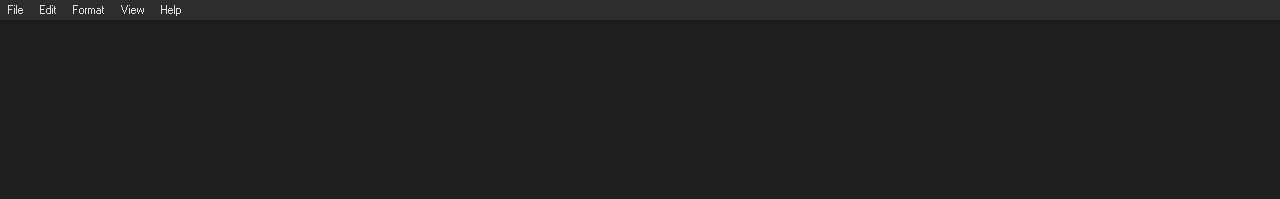
Scenario: MenuBar › should open a menu on click
Click the menu item "File". click: x=16, y=10
box: top-left (8, 4), bottom-right (24, 16)
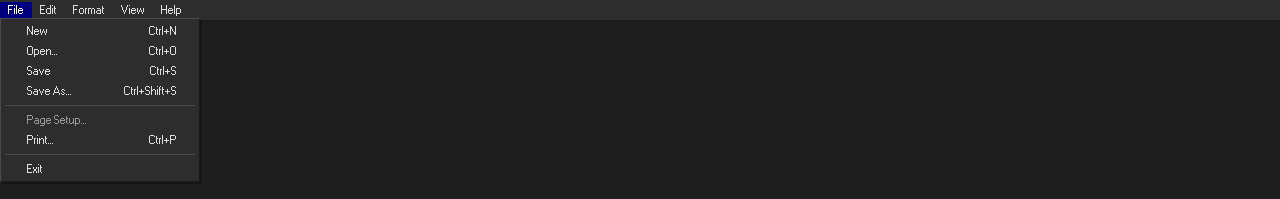
Result: the menu item "New Ctrl+N" is shown at top-left (27, 25), bottom-right (177, 37)
Result: the menu item "Open... Ctrl+O" is shown at top-left (27, 45), bottom-right (177, 57)
Result: the menu item "Save Ctrl+S" is shown at top-left (27, 65), bottom-right (177, 77)
